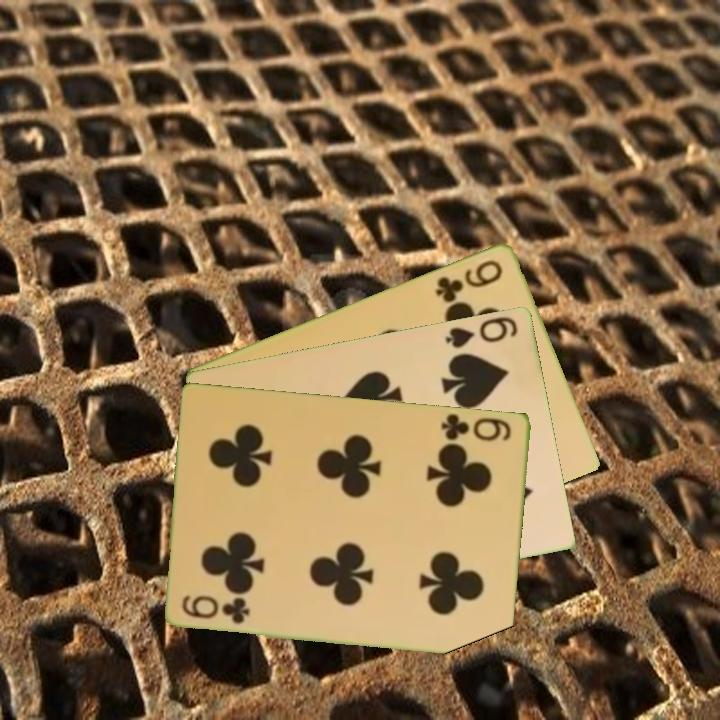6c: (178, 591, 253, 627), (438, 409, 514, 444)
6s: (442, 312, 521, 351)
9c: (432, 255, 506, 305)
